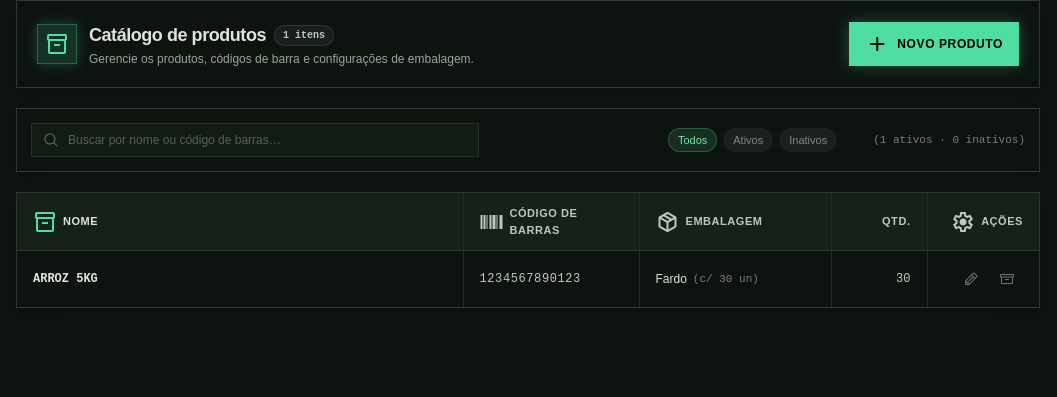
Scenario: termo sem correspondência mostra estado vazio de busca
Expected: the button "Arroz 5kg" is shown, [33, 271, 98, 287]
In the search field named "Buscar produto": (255, 140) [31, 123, 479, 157], type "naoexiste"
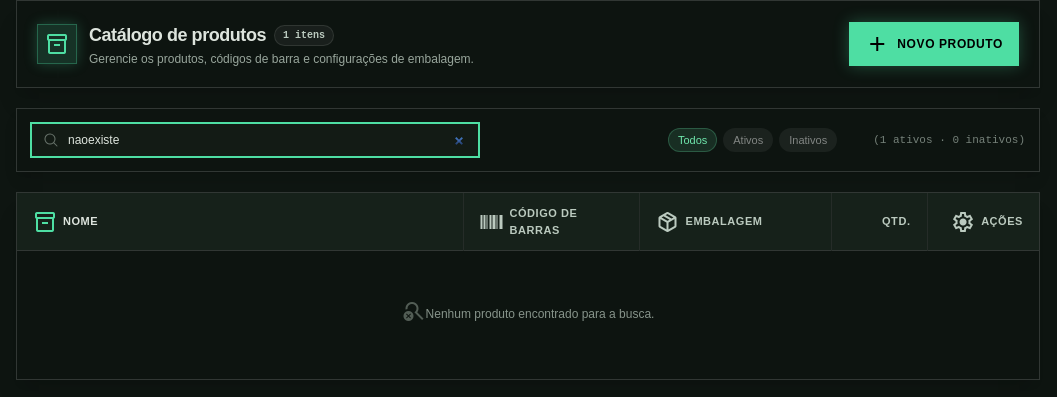
Expected: the text "Nenhum produto encontrado para a busca." is shown, [17, 250, 1039, 379]
Expected: the button "Arroz 5kg" is gone
